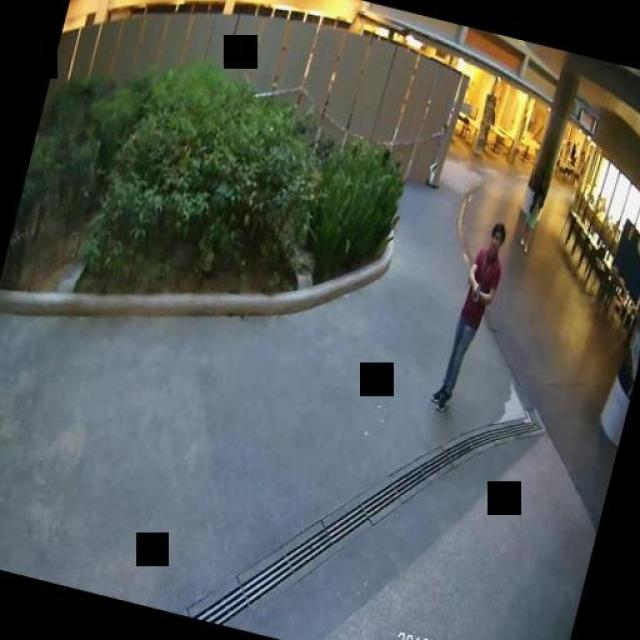gun: (471, 280, 481, 300)
